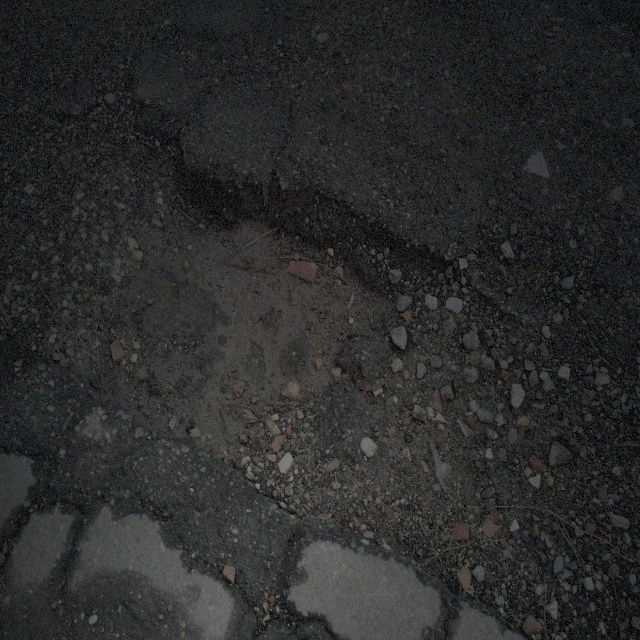pothole: (145, 113, 441, 511)
